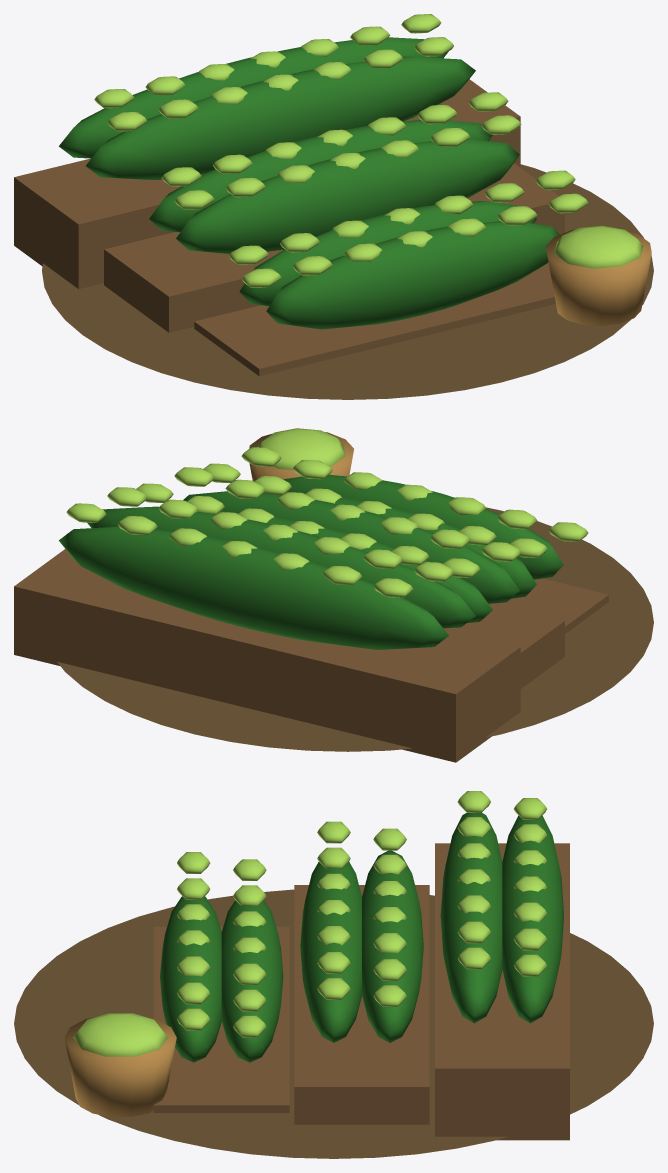
Rendered from resource_tea.fbx.
3 views of the same model, one above another, from view 1: azimuth 30°, elevation 25°; view 2: azimuth 150°, elevation 25°; view 3: azimuth 270°, elevation 25° (orthographic). The views are drawn at different scales.
Parts seen in each view (by area): view 1: resource_tea_teag_02, resource_tea_teaterr_01, resource_tea_sg#6a5232_00, resource_tea_teatip_03, resource_tea_basket_04; view 2: resource_tea_teaterr_01, resource_tea_teag_02, resource_tea_teatip_03, resource_tea_sg#6a5232_00, resource_tea_basket_04; view 3: resource_tea_teaterr_01, resource_tea_teag_02, resource_tea_sg#6a5232_00, resource_tea_teatip_03, resource_tea_basket_04.
Part boxes in pixels (bbox=[...]): resource_tea_teag_02: bbox=[59, 37, 559, 329]; resource_tea_teaterr_01: bbox=[14, 79, 564, 376]; resource_tea_sg#6a5232_00: bbox=[42, 164, 653, 399]; resource_tea_teatip_03: bbox=[94, 14, 643, 287]; resource_tea_basket_04: bbox=[545, 229, 651, 325]; resource_tea_teaterr_01: bbox=[14, 549, 608, 762]; resource_tea_teag_02: bbox=[59, 474, 563, 649]; resource_tea_teatip_03: bbox=[66, 428, 588, 597]; resource_tea_sg#6a5232_00: bbox=[57, 507, 653, 751]; resource_tea_basket_04: bbox=[249, 432, 353, 481]; resource_tea_teaterr_01: bbox=[153, 843, 569, 1140]; resource_tea_teag_02: bbox=[160, 813, 563, 1062]; resource_tea_sg#6a5232_00: bbox=[14, 889, 653, 1158]; resource_tea_teatip_03: bbox=[73, 791, 547, 1056]; resource_tea_basket_04: bbox=[64, 1017, 176, 1116].
Bounding box in the file's own units: 114 × 30.47 × 114.
